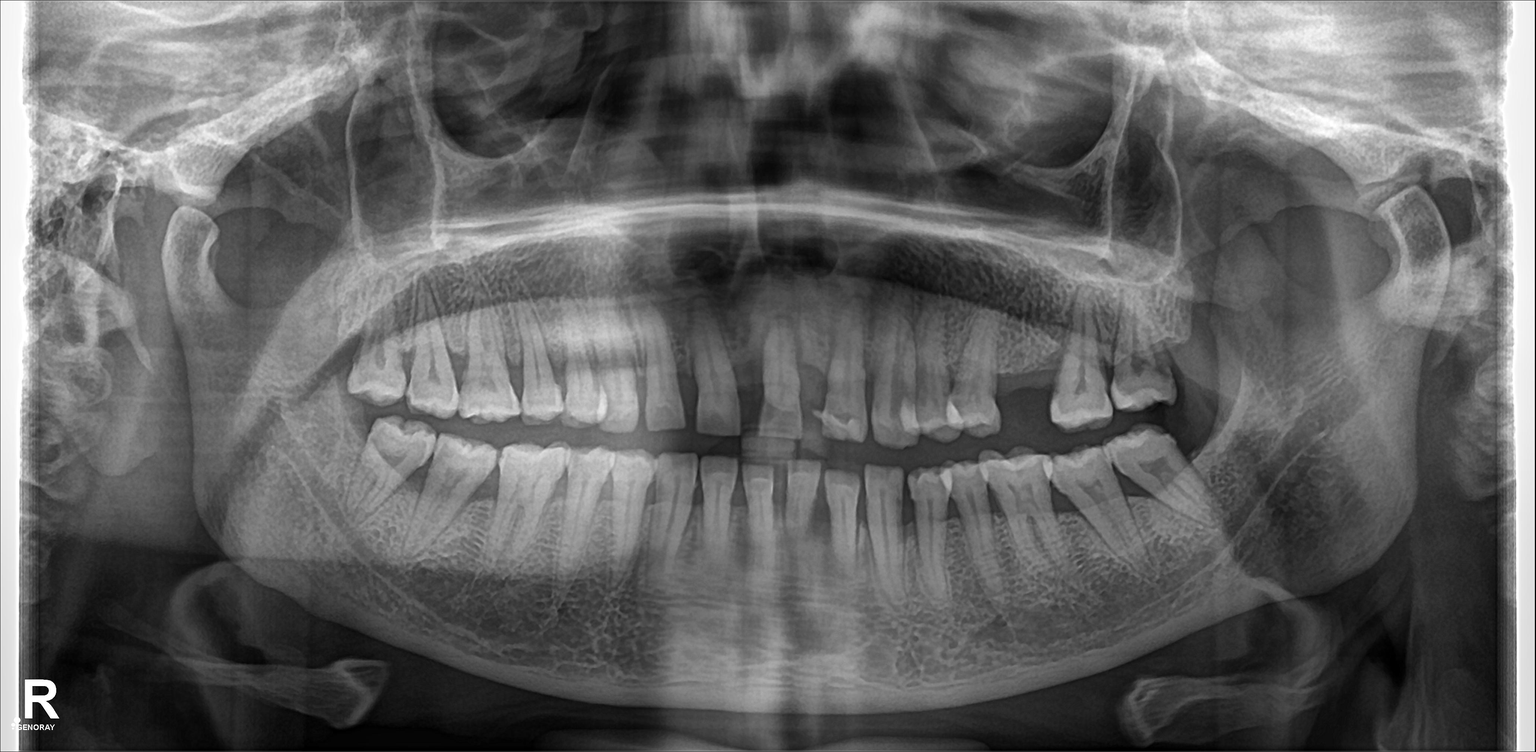Missing Tooth: (1000, 326, 1049, 434)
